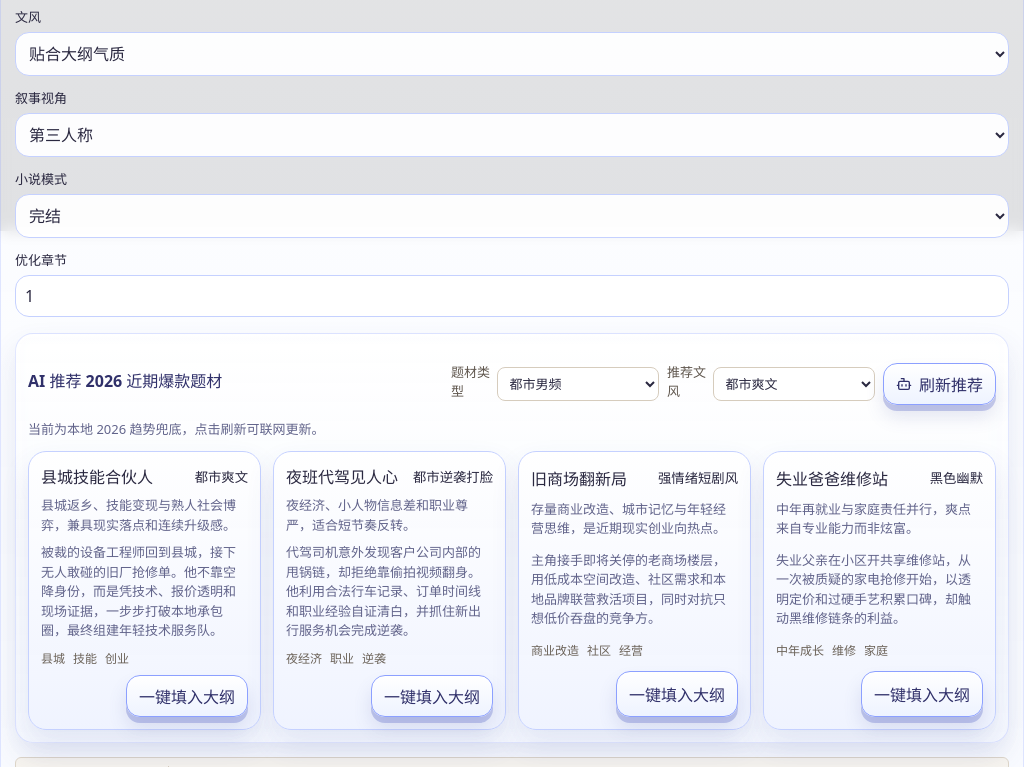
Test: Workspace progress › shows topic recommendations on the outline expansion step
(page scrolled)
Expected: the heading "AI 推荐 2026 近期爆款题材" is shown, x1=28 y1=368 x2=222 y2=392
Expected: the button "刷新推荐" is shown, x1=883 y1=363 x2=996 y2=405
Select "古风家业" in the dropdown labelled "题材类型" at (578,384), box x1=496 y1=367 x2=659 y2=401
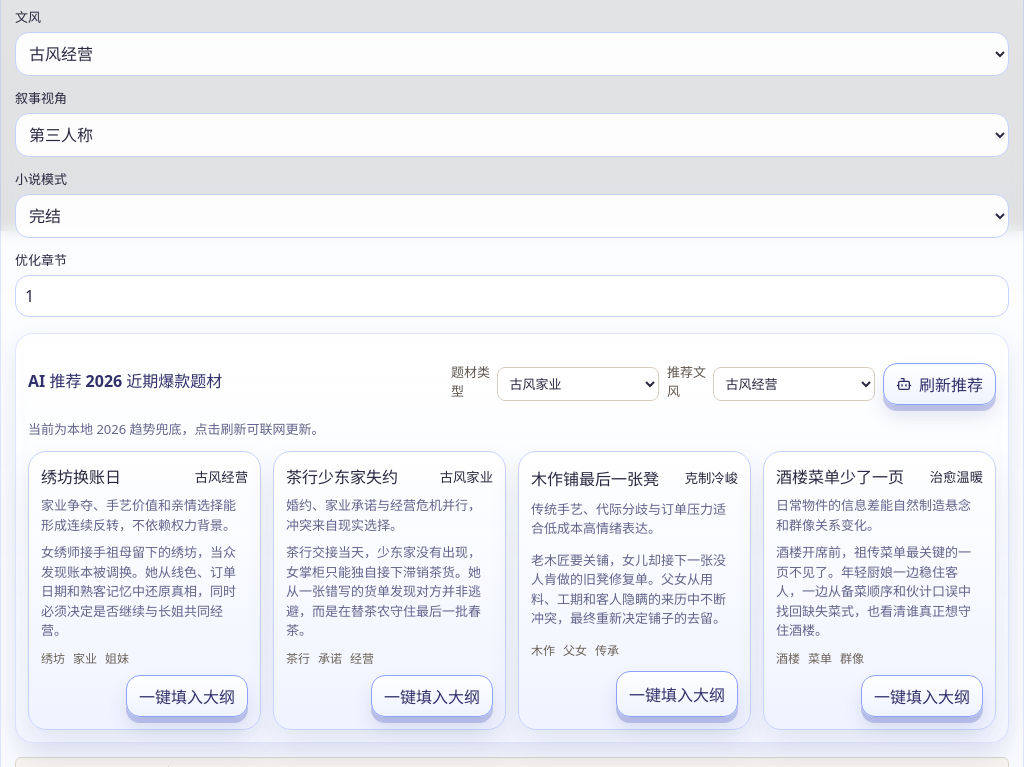
Expected: the button "一键填入大纲" below "姐妹" is shown, x1=126 y1=674 x2=248 y2=716
Expected: the dropdown labelled "推荐文风" shows "古风经营", x1=712 y1=367 x2=875 y2=401
Expected: the dropdown labelled "文风" shows "古风经营", x1=15 y1=32 x2=1009 y2=76
